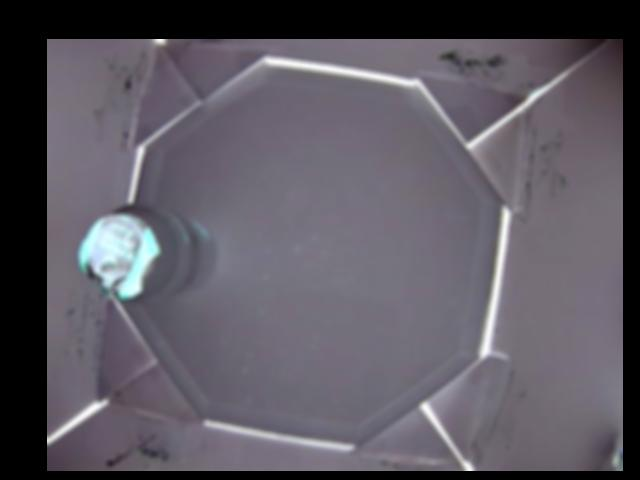Bottle: (77, 202, 218, 300)
